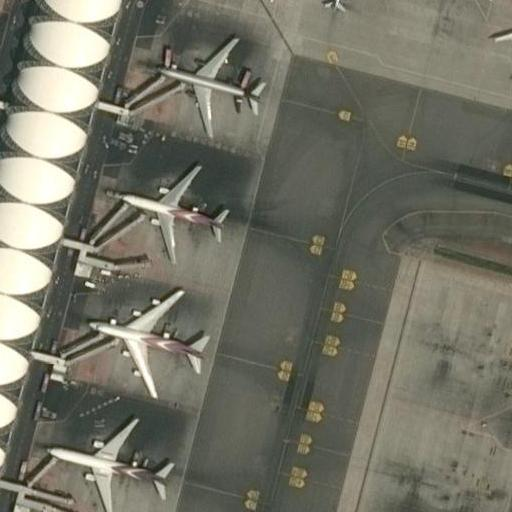Aircraft: (38, 411, 184, 512), (87, 281, 212, 393), (111, 161, 230, 260), (156, 34, 274, 131), (491, 0, 512, 94), (305, 0, 373, 12)
